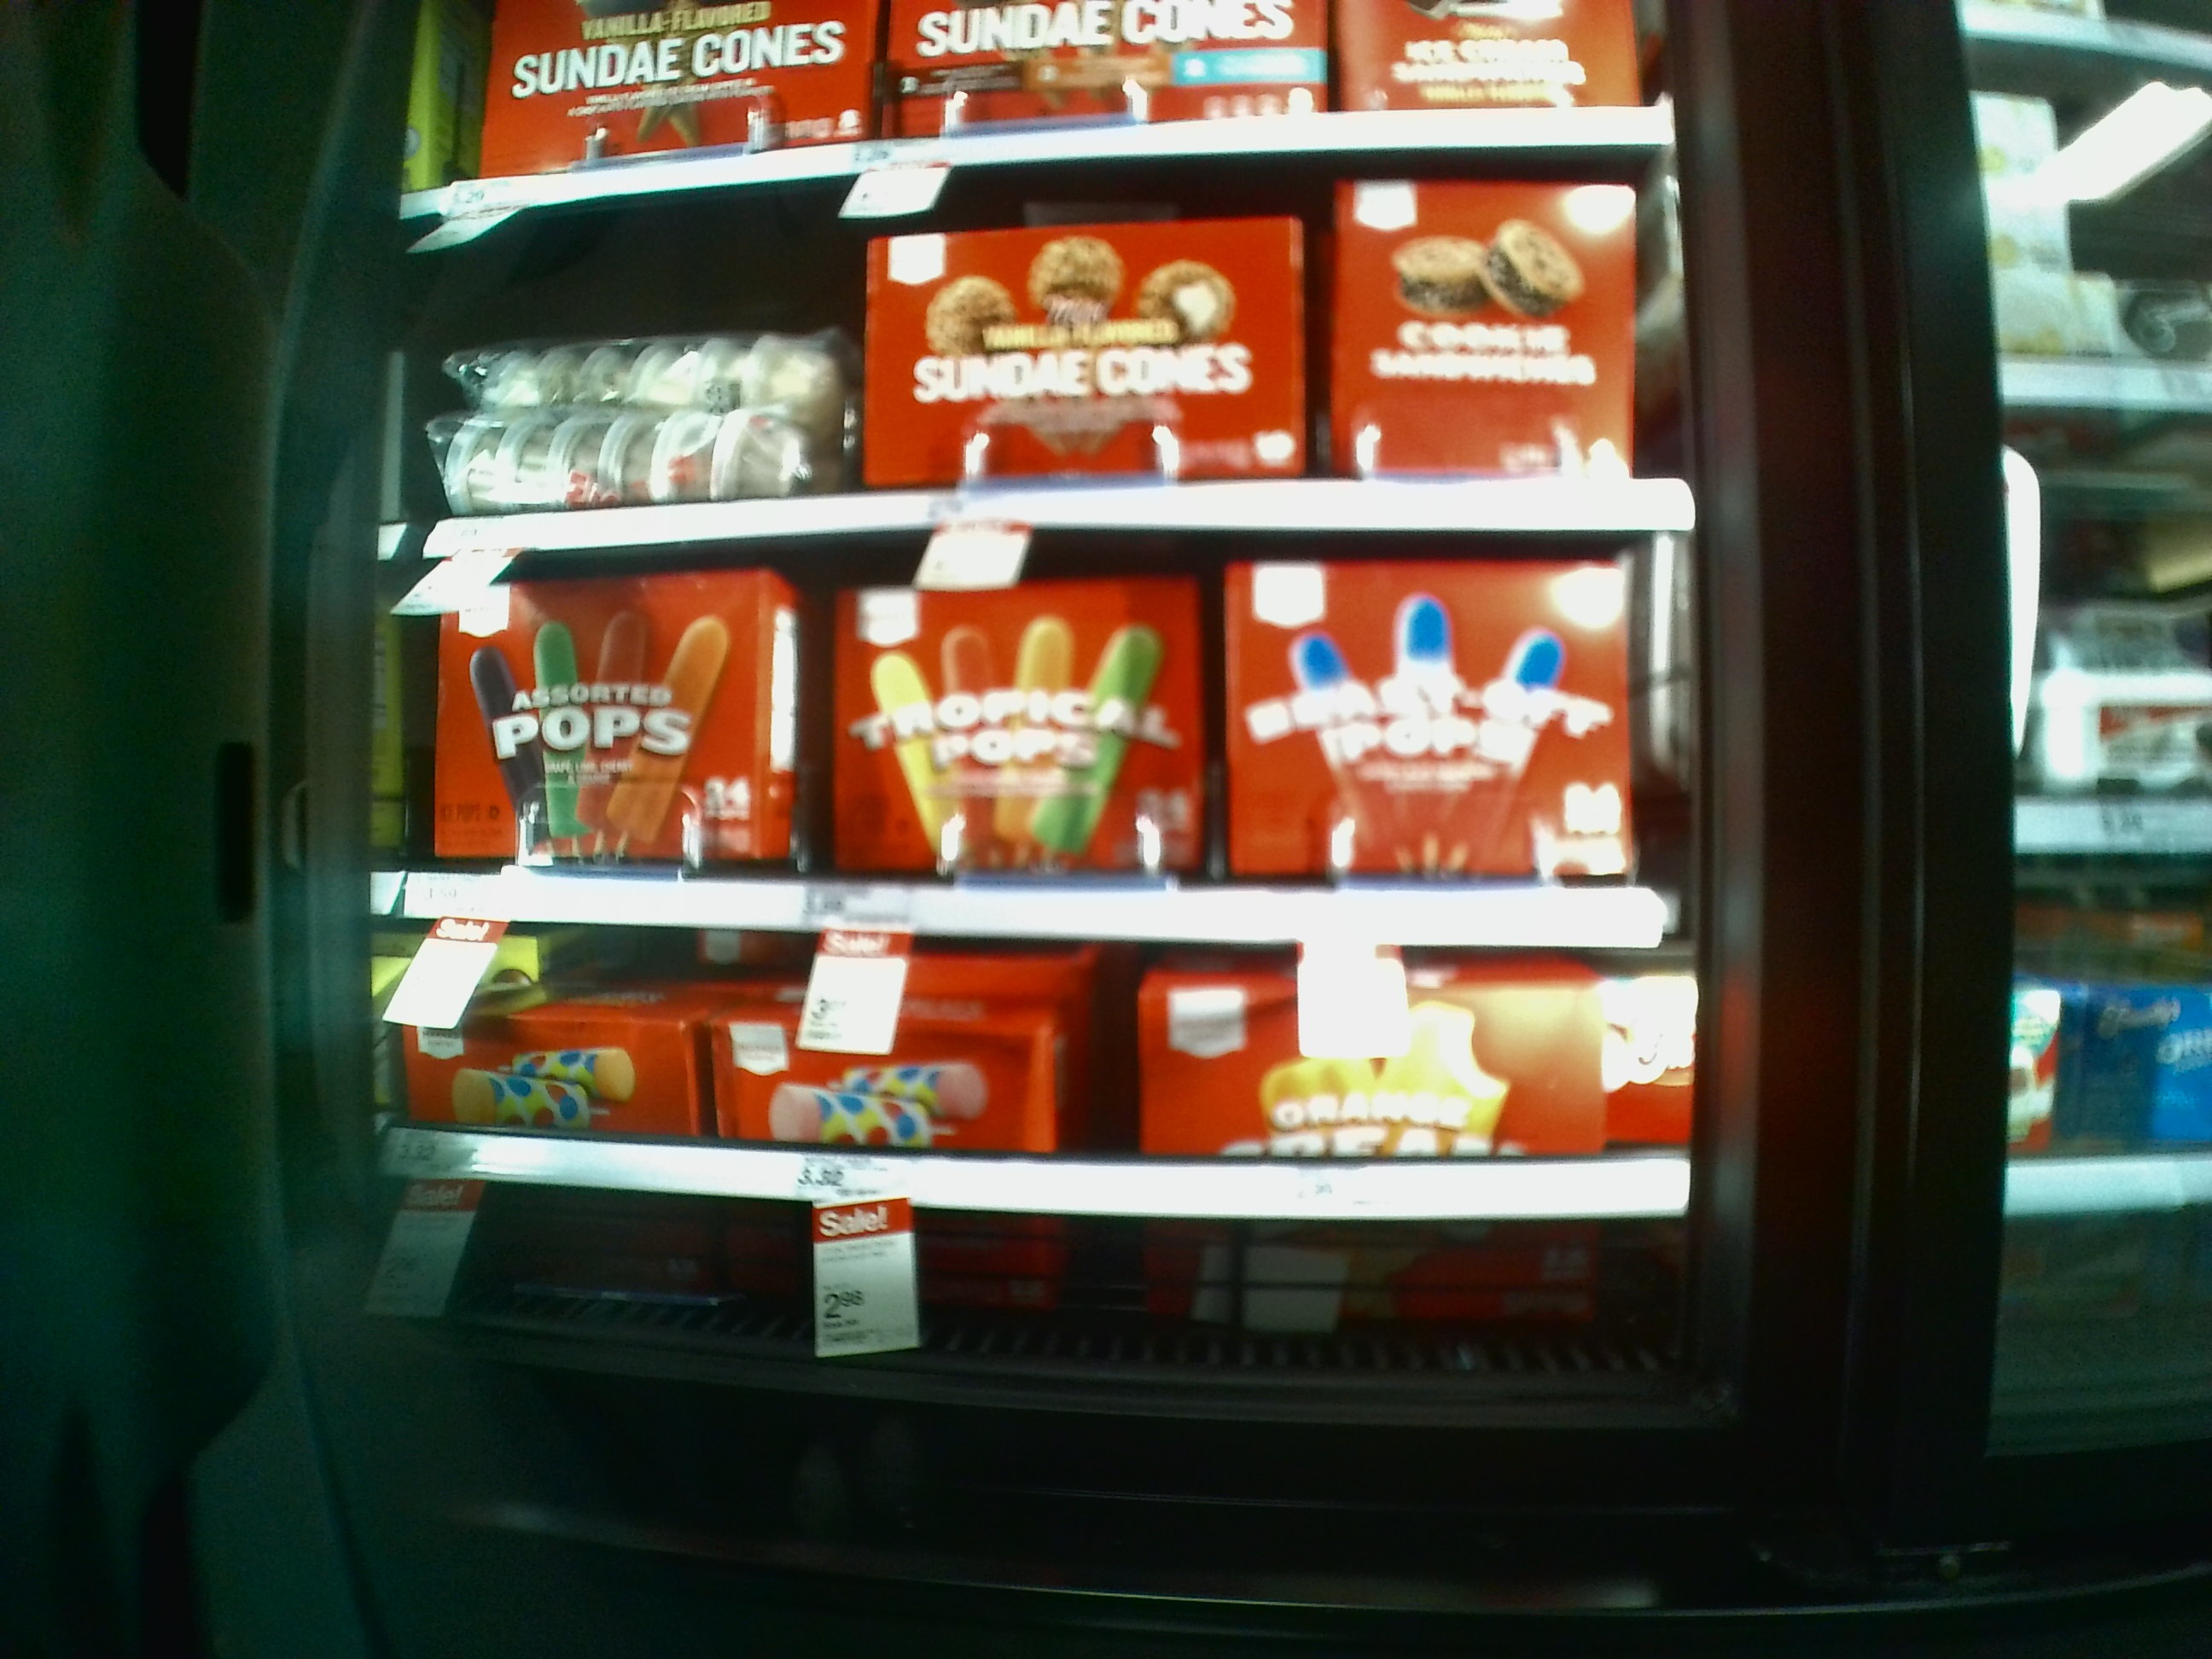shelf: (364, 931, 1726, 1403), (378, 551, 1683, 950), (388, 211, 1723, 532)
